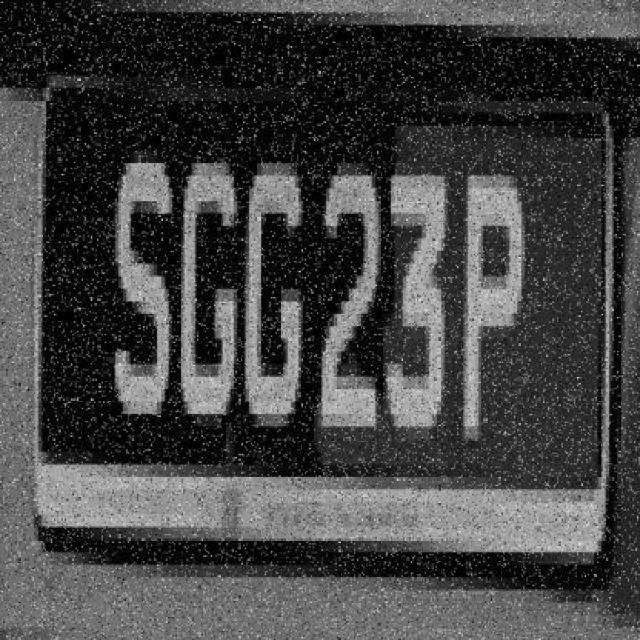licenseplate: (35, 75, 620, 575)
